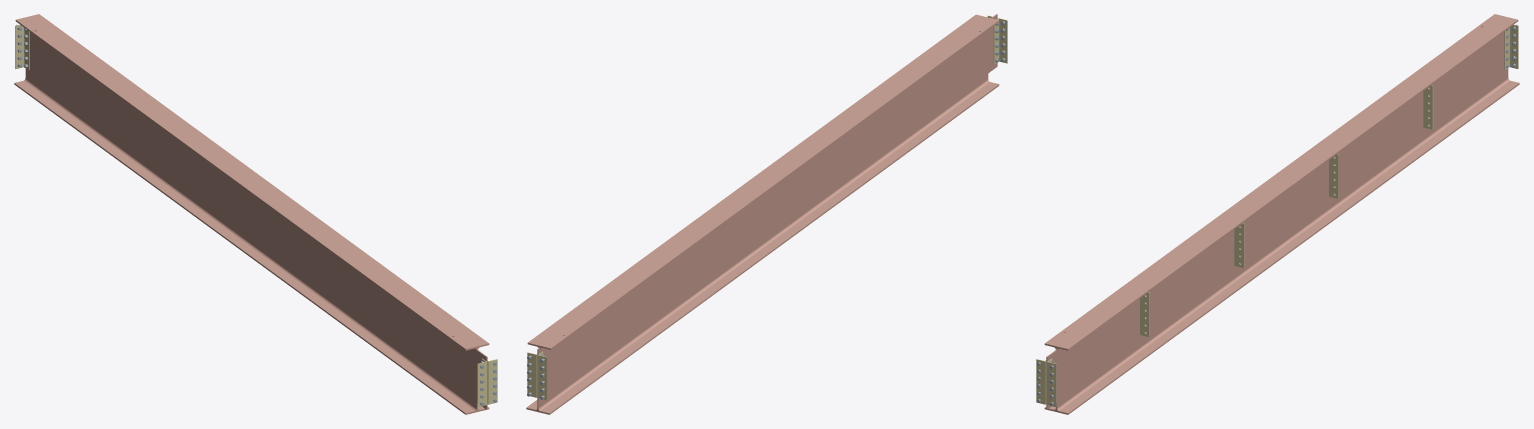
3 renders of one model, left to right at view 1: azimuth 30°, elevation 25°; view 2: azimuth 150°, elevation 25°; view 3: azimuth 330°, elevation 25°, orthographic.
Parts seen in each view (by area): view 1: product-13043312-72b5-4dff-a711-13e3dad5357e-body, product-05ea5f4a-2363-41d5-94a3-fc4c2cd014d4-body, product-7c73c689-28a9-4fec-b81c-3f565c892f27-body; view 2: product-13043312-72b5-4dff-a711-13e3dad5357e-body, product-7c73c689-28a9-4fec-b81c-3f565c892f27-body; view 3: product-13043312-72b5-4dff-a711-13e3dad5357e-body, product-9389ed95-f6a7-44d9-a204-cc1b4c5ef458-body, product-e85adbfc-2b1c-471d-9e77-c57003f5c14c-body, product-e1ca76c1-75b5-488e-b4ae-d1edb3424707-body, product-fc219864-ae06-49dc-acd3-73425edace8a-body.
Part boxes in pixels (x1,y1,x2,y2): product-13043312-72b5-4dff-a711-13e3dad5357e-body: (14,14,489,414); product-05ea5f4a-2363-41d5-94a3-fc4c2cd014d4-body: (15,24,29,69); product-7c73c689-28a9-4fec-b81c-3f565c892f27-body: (477,358,487,407); product-13043312-72b5-4dff-a711-13e3dad5357e-body: (526,14,999,414); product-7c73c689-28a9-4fec-b81c-3f565c892f27-body: (993,18,1007,64); product-13043312-72b5-4dff-a711-13e3dad5357e-body: (1044,14,1519,414); product-9389ed95-f6a7-44d9-a204-cc1b4c5ef458-body: (1504,24,1518,69); product-e85adbfc-2b1c-471d-9e77-c57003f5c14c-body: (1423,85,1433,129); product-e1ca76c1-75b5-488e-b4ae-d1edb3424707-body: (1234,223,1244,267); product-fc219864-ae06-49dc-acd3-73425edace8a-body: (1046,358,1056,407).
Size of the model in its own units: 0.254 by 0.6782 by 8.71.
